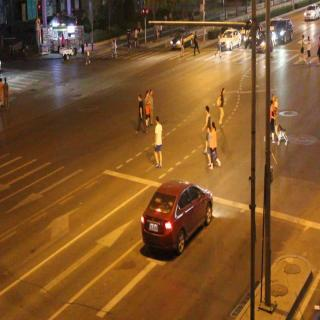Car: (135, 166, 217, 264), (253, 29, 280, 57), (217, 23, 240, 53), (274, 21, 297, 48), (303, 2, 319, 28)
